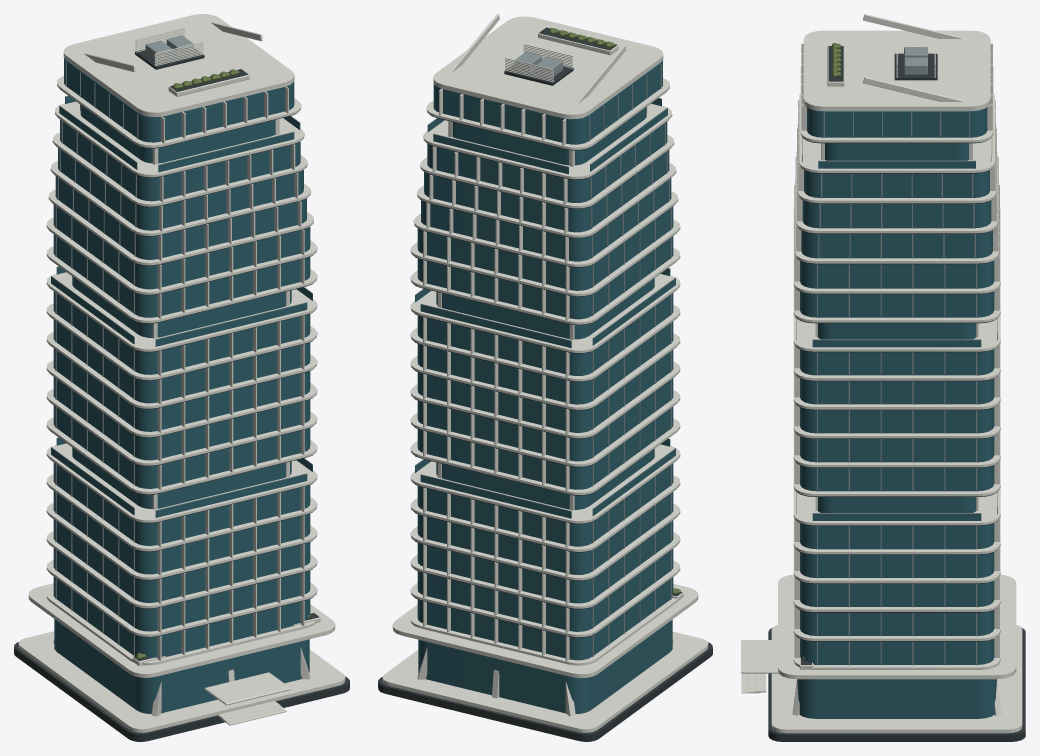
Rendered from Solstice_TerraceTower_A.fbx.
The picture shows the model from 3 angles, left to right: view 1: azimuth 30°, elevation 25°; view 2: azimuth 150°, elevation 25°; view 3: azimuth 270°, elevation 25°; orthographic projection.
Parts seen in each view (by area): view 1: Solstice_TerraceTower_A; view 2: Solstice_TerraceTower_A; view 3: Solstice_TerraceTower_A.
Part boxes in pixels (<box>): Solstice_TerraceTower_A: <box>14,14,349,741</box>; Solstice_TerraceTower_A: <box>378,14,712,741</box>; Solstice_TerraceTower_A: <box>741,14,1025,741</box>.
Size of the model in its own units: 27 by 74.28 by 29.85.
